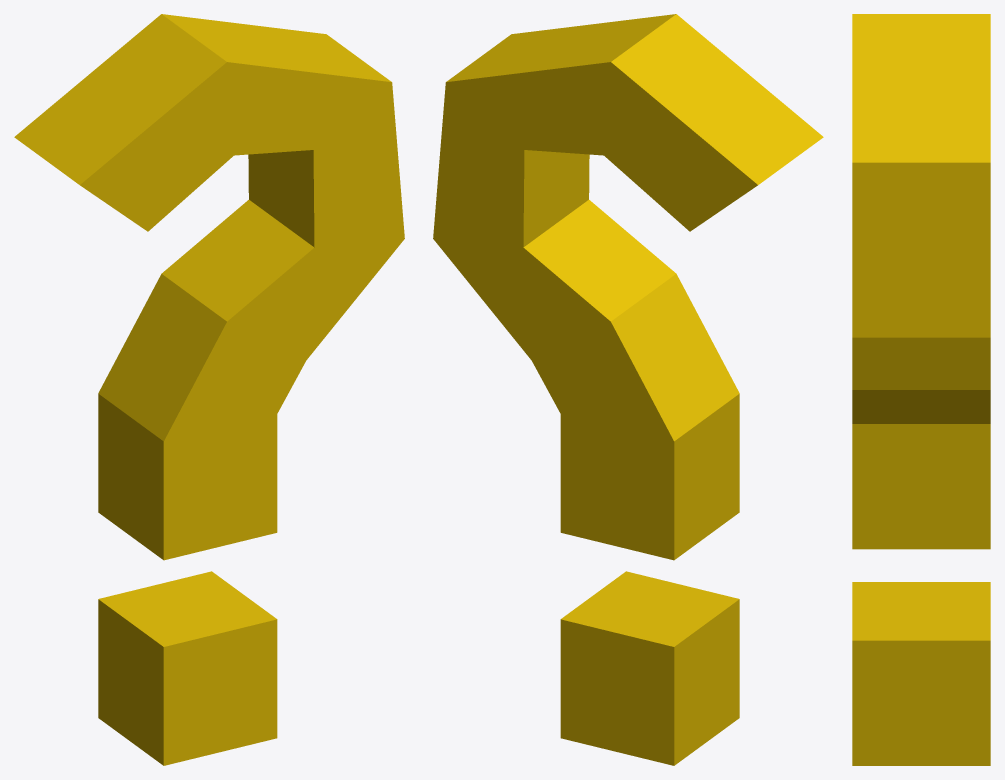
The model's file is Bonus_Random.fbx.
3 renders of one model, left to right at view 1: azimuth 30°, elevation 25°; view 2: azimuth 150°, elevation 25°; view 3: azimuth 270°, elevation 25°, orthographic. The views are drawn at different scales.
Parts seen in each view (by area): view 1: Cube; view 2: Cube; view 3: Cube.
Part boxes in pixels (left/top/right/bottom): Cube: left=14, top=14, right=404, bottom=765; Cube: left=433, top=14, right=823, bottom=765; Cube: left=852, top=14, right=990, bottom=765.
Size of the model in its own units: 572 by 1158 by 200.
